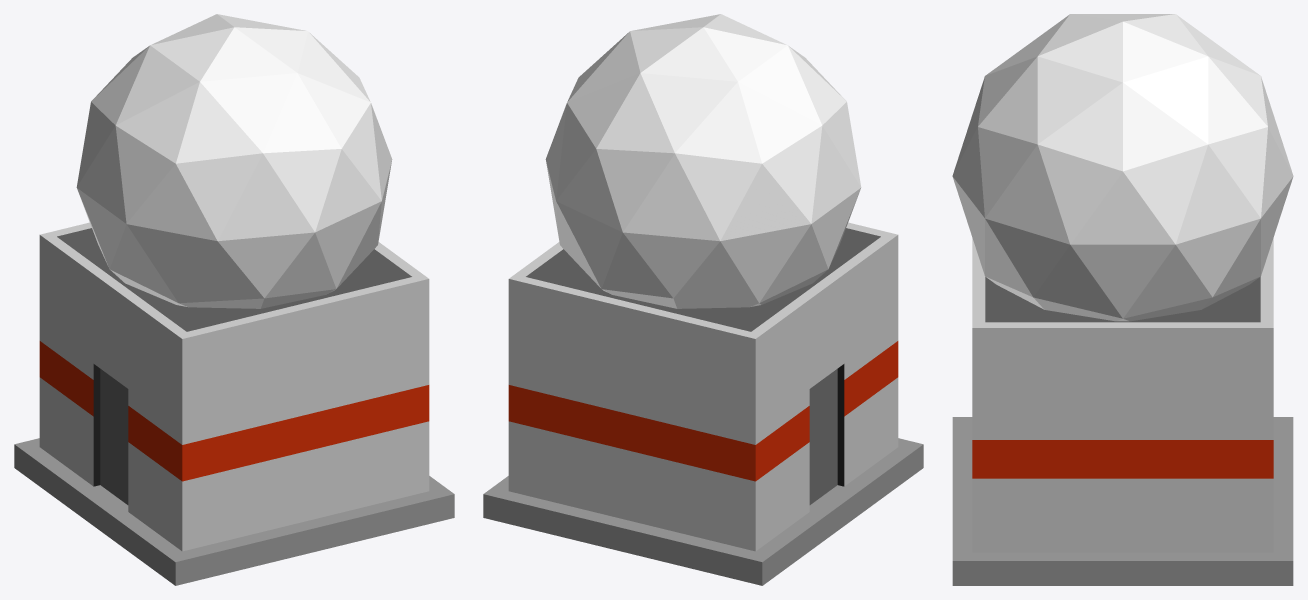
File: Radar Box.fbx
3 views of the same model, side by side, from view 1: azimuth 30°, elevation 25°; view 2: azimuth 150°, elevation 25°; view 3: azimuth 270°, elevation 25° (orthographic). The views are drawn at different scales.
Visible parts, largest first — view 1: Radar_Box; view 2: Radar_Box; view 3: Radar_Box.
Boxes of the visible parts, <box> form: Radar_Box: <box>14,14,454,585</box>; Radar_Box: <box>483,14,923,585</box>; Radar_Box: <box>952,14,1293,585</box>.
Bounding box in the file's own units: 463 × 738 × 463.
1 material, 1 textured.
